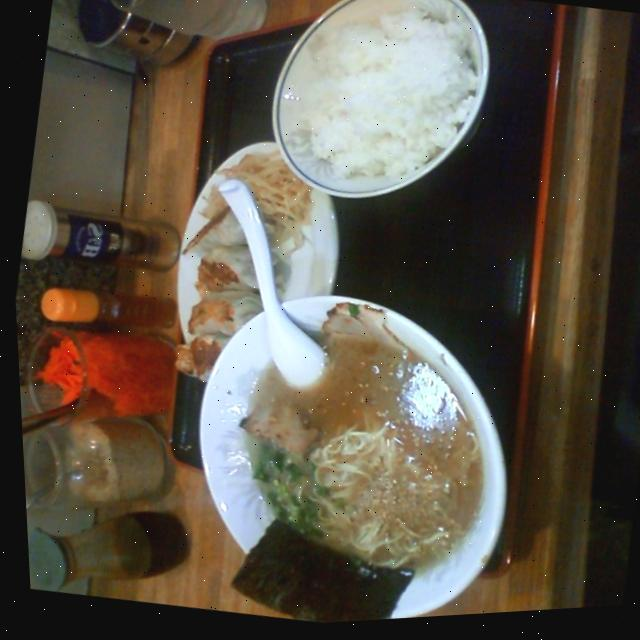带馅早点: (131, 181, 310, 415)
米饭主食: (251, 0, 501, 208)
